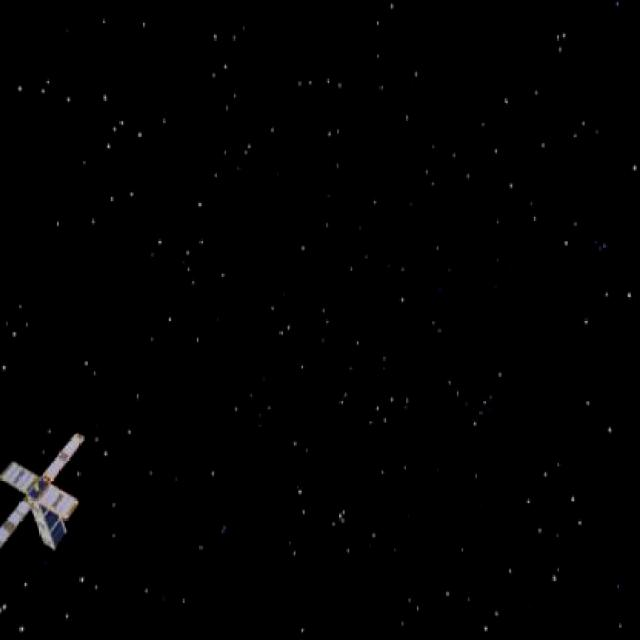medium_debris: (0, 431, 98, 562)
